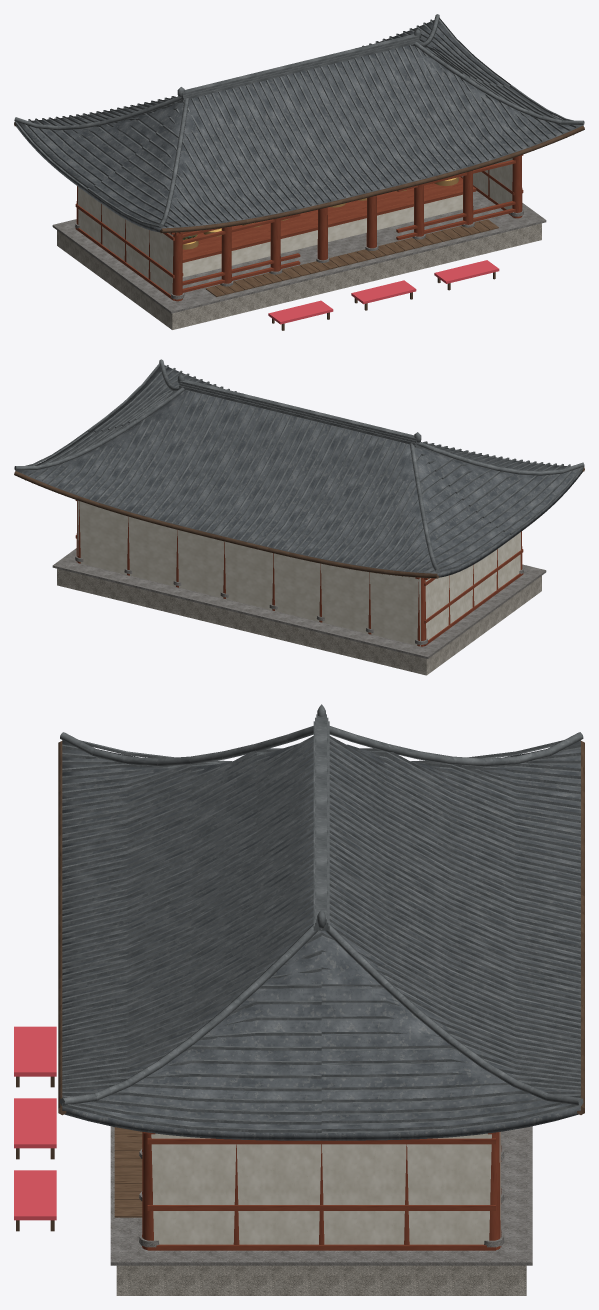
Rendered from toji_kodo.glb.
3 renders of one model, top to bottom at view 1: azimuth 30°, elevation 25°; view 2: azimuth 150°, elevation 25°; view 3: azimuth 270°, elevation 25°, orthographic. The views are drawn at different scales.
Parts seen in each view (by area): view 1: Kodo_IrimoyaRoof, TojiMerged_Toji_KawaraRidge_TemplePBR, TojiMerged_Toji_KodoVermilion_TemplePBR, TojiMerged_Toji_ShikkuiWhite_TemplePBR, TojiMerged_Toji_GraniteDark_TemplePBR, Kodo_StonePodium, TojiMerged_Toji_TimberMid_TemplePBR, TojiMerged_Toji_TimberDark_TemplePBR, TojiMerged_Toji_HomosenRed; view 2: Kodo_IrimoyaRoof, TojiMerged_Toji_KawaraRidge_TemplePBR, TojiMerged_Toji_ShikkuiWhite_TemplePBR, Kodo_StonePodium, TojiMerged_Toji_GraniteDark_TemplePBR, TojiMerged_Toji_KodoVermilion_TemplePBR, TojiMerged_Toji_TimberDark_TemplePBR; view 3: TojiMerged_Toji_KawaraRidge_TemplePBR, Kodo_IrimoyaRoof, TojiMerged_Toji_ShikkuiWhite_TemplePBR, Kodo_StonePodium, TojiMerged_Toji_GraniteDark_TemplePBR, TojiMerged_Toji_KodoVermilion_TemplePBR, TojiMerged_Toji_HomosenRed, TojiMerged_Toji_TimberDark_TemplePBR, TojiMerged_Toji_TimberMid_TemplePBR.
Part boxes in pixels (x1,y1,x2,y2): Kodo_IrimoyaRoof: (15,20,583,232); TojiMerged_Toji_KawaraRidge_TemplePBR: (14,14,584,227); TojiMerged_Toji_KodoVermilion_TemplePBR: (75,154,523,301); TojiMerged_Toji_ShikkuiWhite_TemplePBR: (78,158,512,294); TojiMerged_Toji_GraniteDark_TemplePBR: (52,191,546,313); Kodo_StonePodium: (57,223,541,329); TojiMerged_Toji_TimberMid_TemplePBR: (169,135,573,296); TojiMerged_Toji_TimberDark_TemplePBR: (14,122,584,330); TojiMerged_Toji_HomosenRed: (268,260,499,324); Kodo_IrimoyaRoof: (15,365,583,577); TojiMerged_Toji_KawaraRidge_TemplePBR: (14,359,584,573); TojiMerged_Toji_ShikkuiWhite_TemplePBR: (77,500,520,646); Kodo_StonePodium: (57,568,541,675); TojiMerged_Toji_GraniteDark_TemplePBR: (52,548,546,658); TojiMerged_Toji_KodoVermilion_TemplePBR: (75,500,523,646); TojiMerged_Toji_TimberDark_TemplePBR: (14,467,584,578); TojiMerged_Toji_KawaraRidge_TemplePBR: (60,704,583,1132); Kodo_IrimoyaRoof: (62,739,580,1140); TojiMerged_Toji_ShikkuiWhite_TemplePBR: (151,1132,500,1247); Kodo_StonePodium: (116,1265,526,1295); TojiMerged_Toji_GraniteDark_TemplePBR: (110,1126,532,1265); TojiMerged_Toji_KodoVermilion_TemplePBR: (142,1132,501,1250); TojiMerged_Toji_HomosenRed: (14,1026,56,1220); TojiMerged_Toji_TimberDark_TemplePBR: (16,741,584,1231); TojiMerged_Toji_TimberMid_TemplePBR: (114,1127,142,1217).
Size of the model in its own units: 22.56 by 9.38 by 14.75.
Materials: 21 (11 with a texture image).
